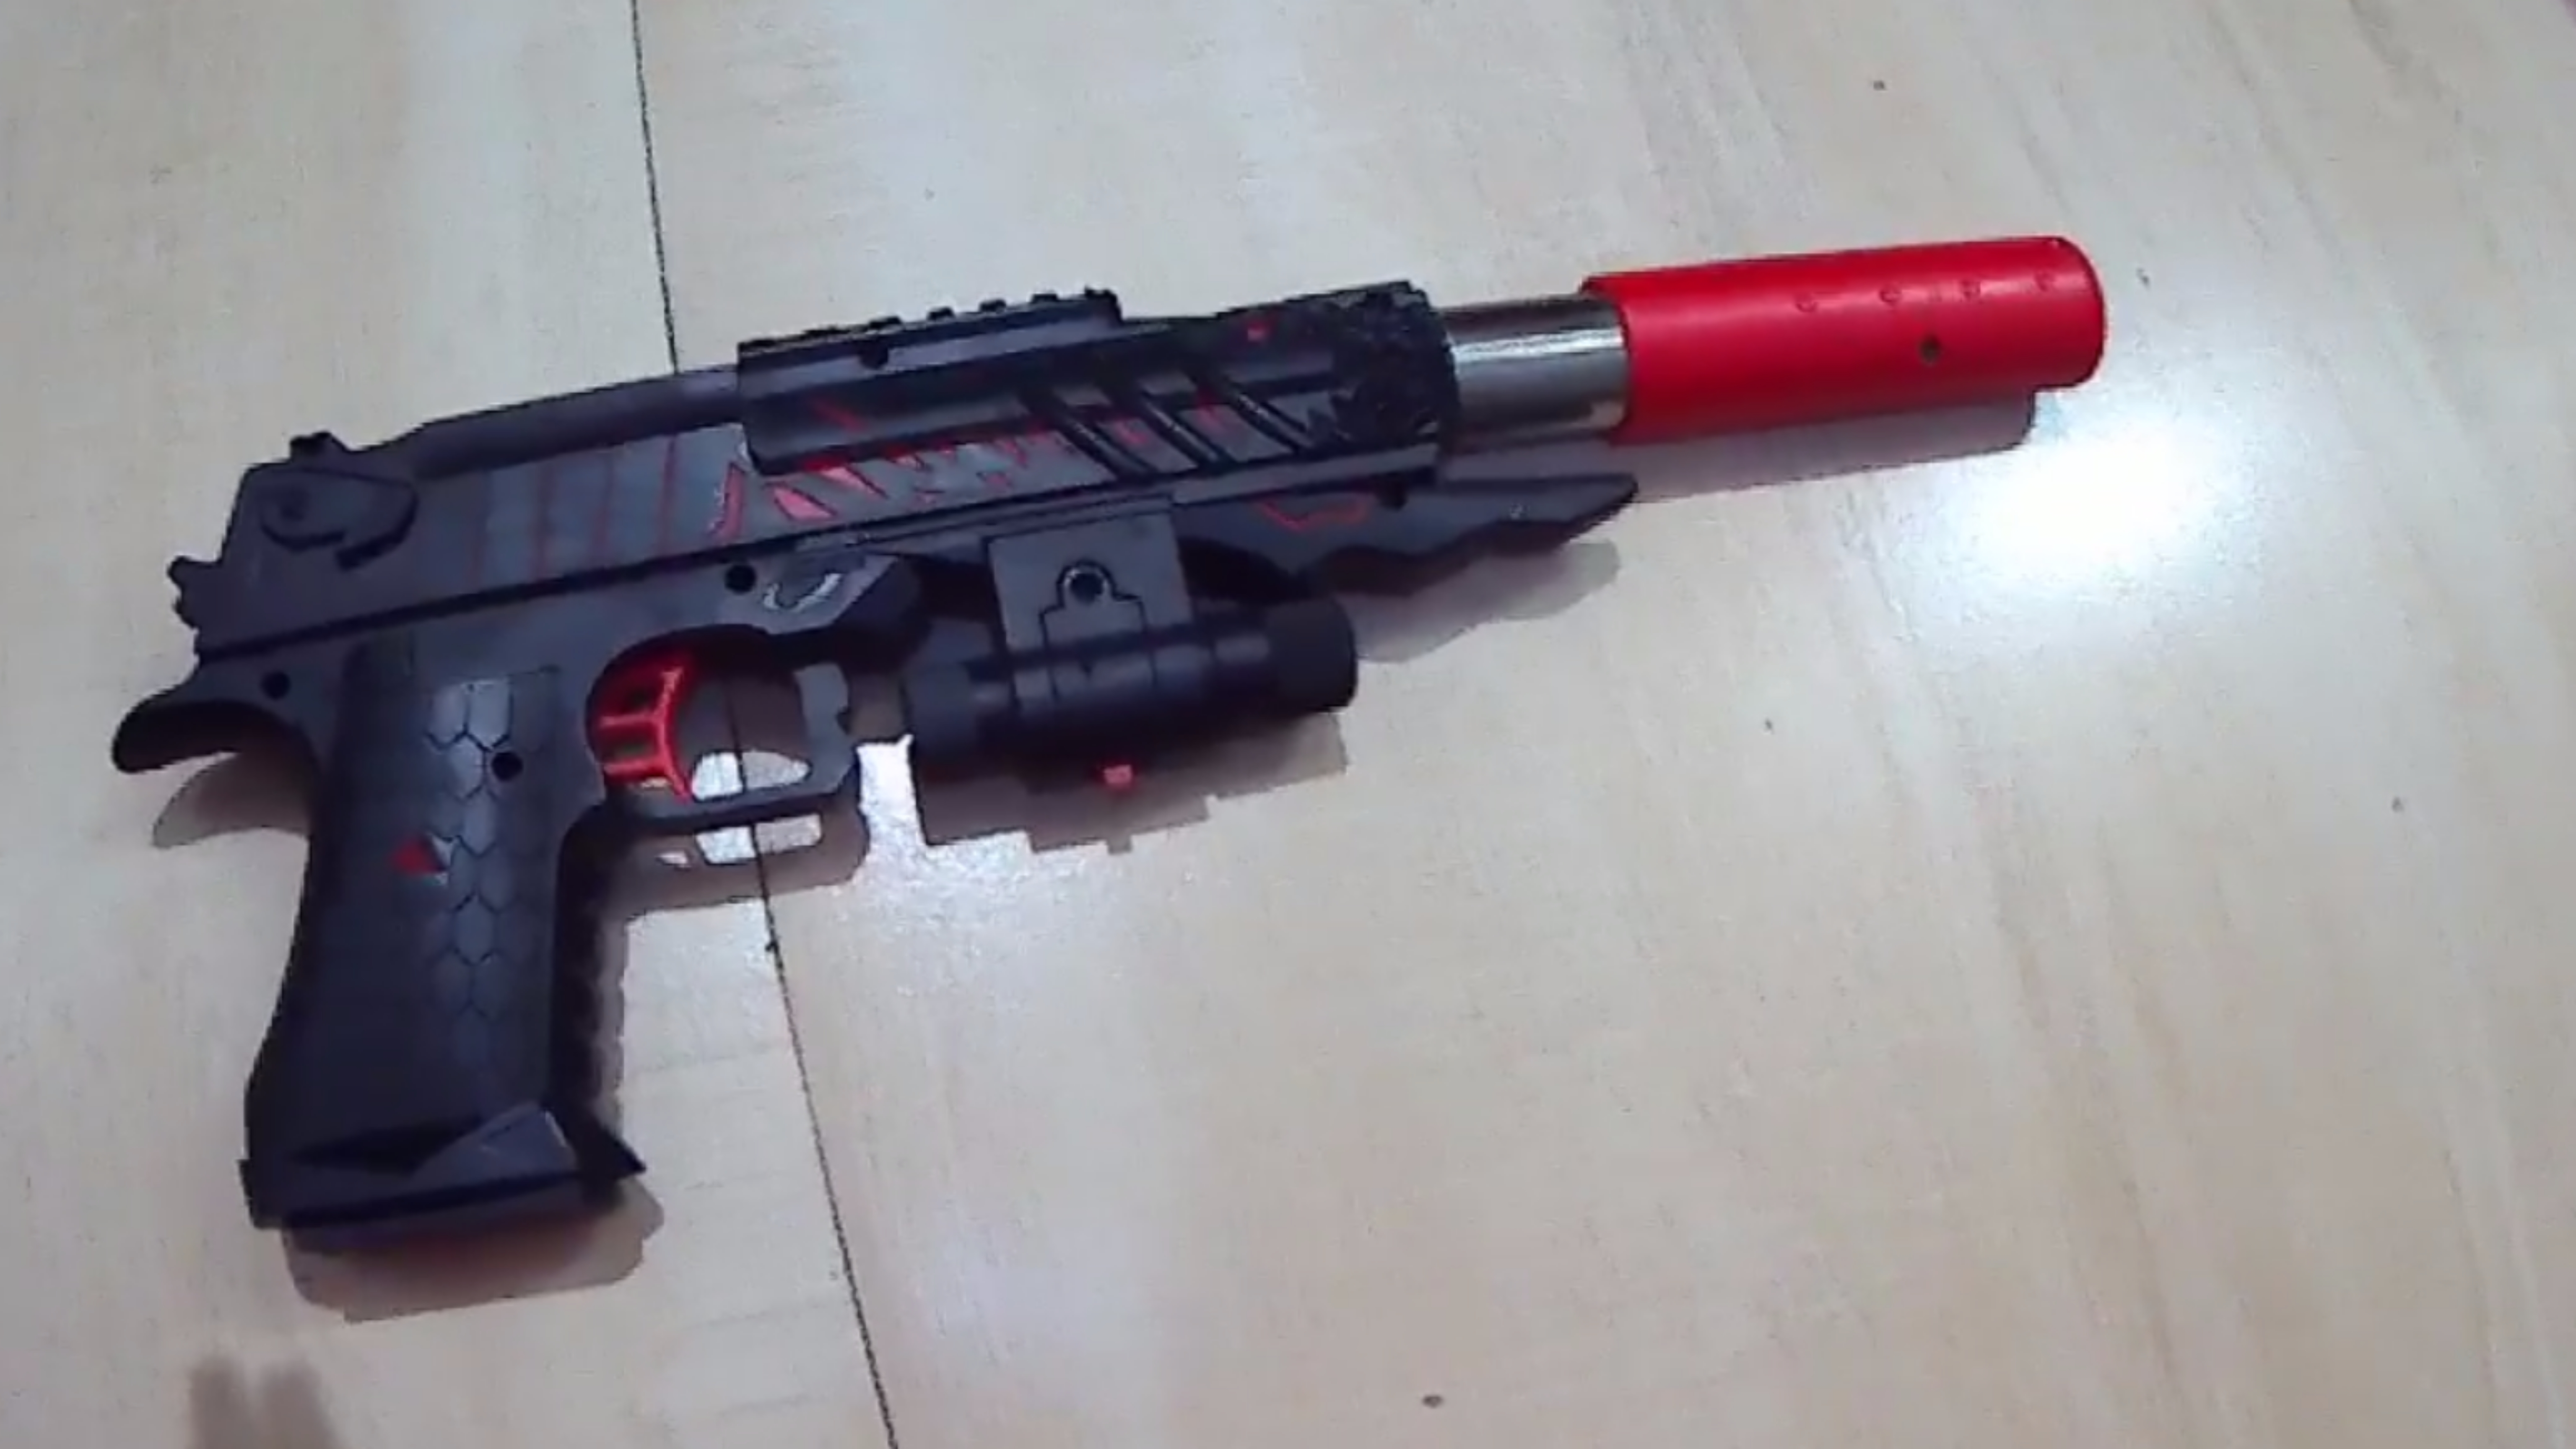handgun: (76, 218, 2132, 1307)
